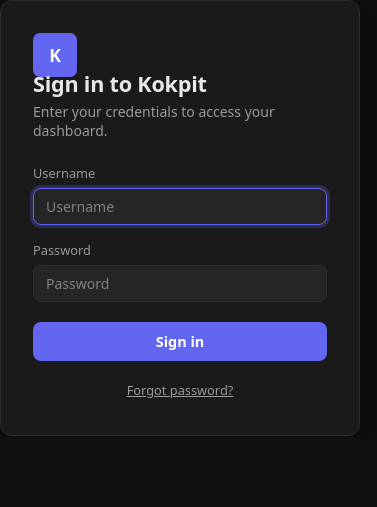
it: LoginForm - credentials step › shows the server error message on a non-ok response
Type "admin" into the field with placeholder "Username" at (180, 206), box [33, 188, 327, 225]
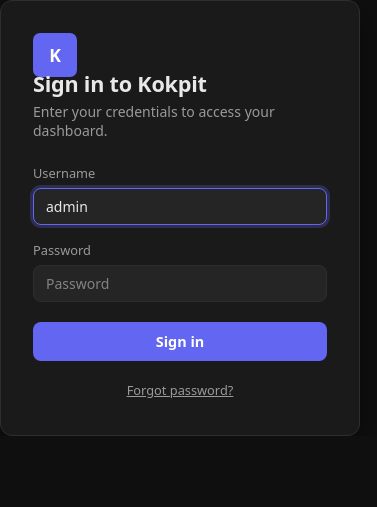
Type "wrong" into the password field with placeholder "Password" at (180, 284), box [33, 265, 327, 302]
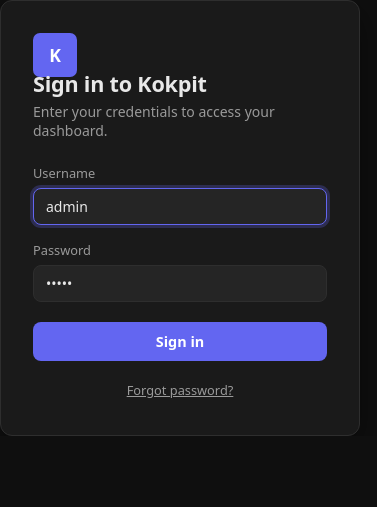
Click the button "Sign in" at (180, 342), box [33, 322, 327, 361]
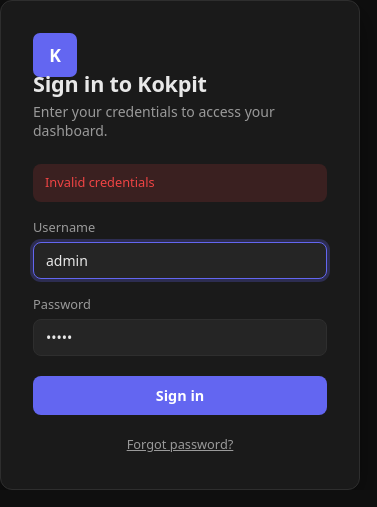
Expected: the text "Invalid credentials" is shown, [33, 164, 327, 202]
